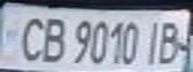0: (121, 17, 145, 66), (90, 16, 109, 66)
1: (109, 17, 127, 66)
9: (66, 15, 93, 65)
B: (36, 13, 69, 64), (154, 16, 187, 66)
C: (6, 11, 51, 64)
I: (139, 16, 166, 66)
